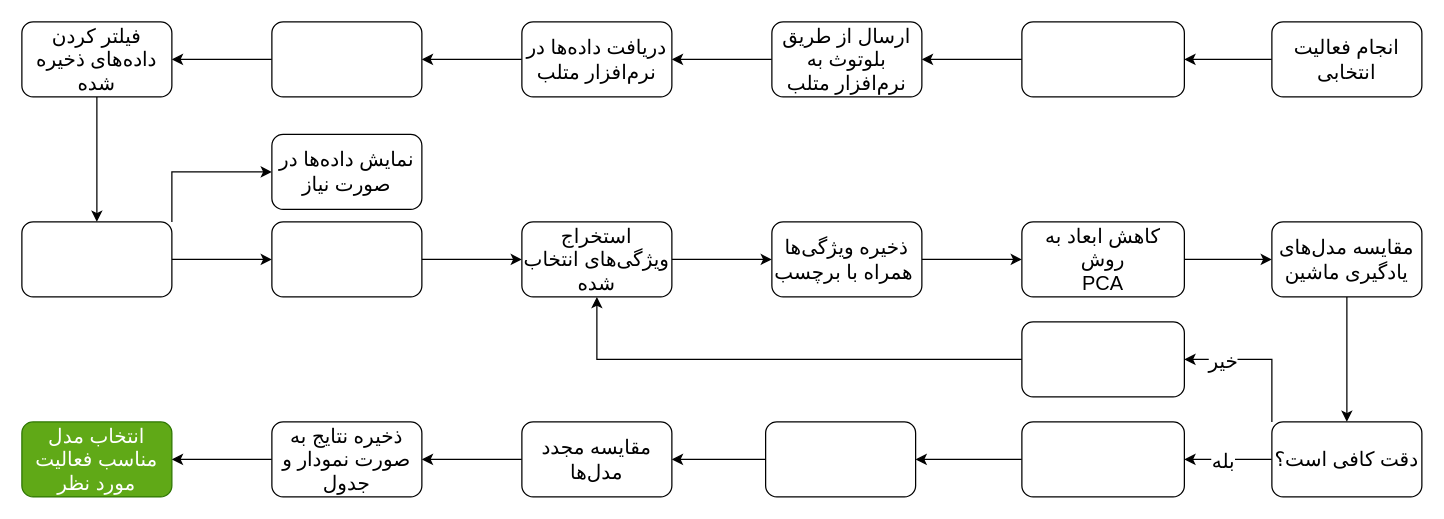
The diagram is 1444 pixels wide and 519 high, and some of its shapes have lost their labels. Here are the shapes that lost their labels. From the top down, the centre of each, then its label:
At pixel 346 59: "ذخیره داده‌ها به صورت فایل اکسل".
At pixel 1102 59: "ثبت داده‌های حرکتی توسط پنج حسگر".
At pixel 96 259: "ذخیره در فایل جدید".
At pixel 346 259: "پیش پردازش داده‌ها در پایتون".
At pixel 1102 359: "پیدا کردن ویژگی‌های مناسب".
At pixel 840 459: "انتخاب تعداد پارامتر‌های موثر".
At pixel 1102 459: "پیدا کردن حداقل تعداد پارامتر‌های موثر".
